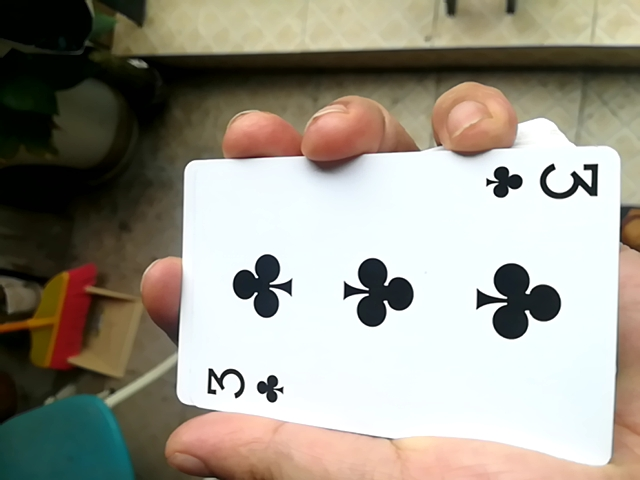mh 3: (164, 141, 628, 460)
